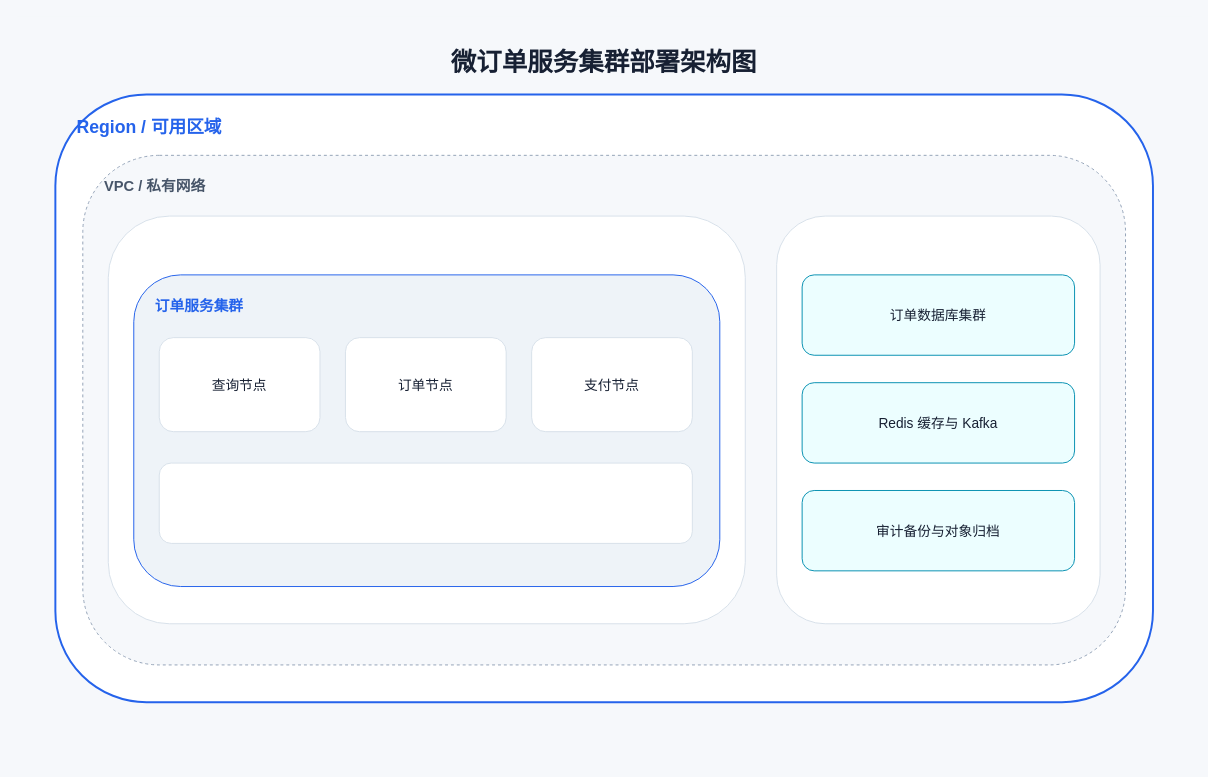
The diagram is 1208 pixels wide and 777 high, and some of its shapes have lost their labels. The box of each missing label's shape, as (x1, y1, x2, y2) in pixels:
数据子网: (776, 215, 1100, 624)
计算子网: (107, 215, 745, 624)
负载均衡与 API 入口: (158, 462, 692, 543)
